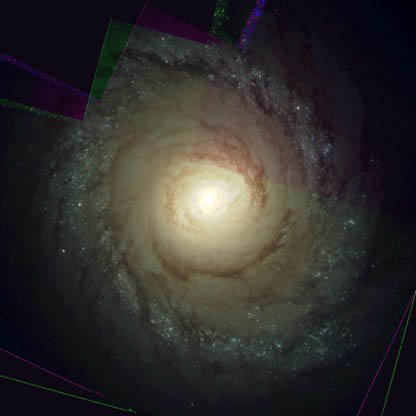Messier 94: (54, 29, 361, 376)
